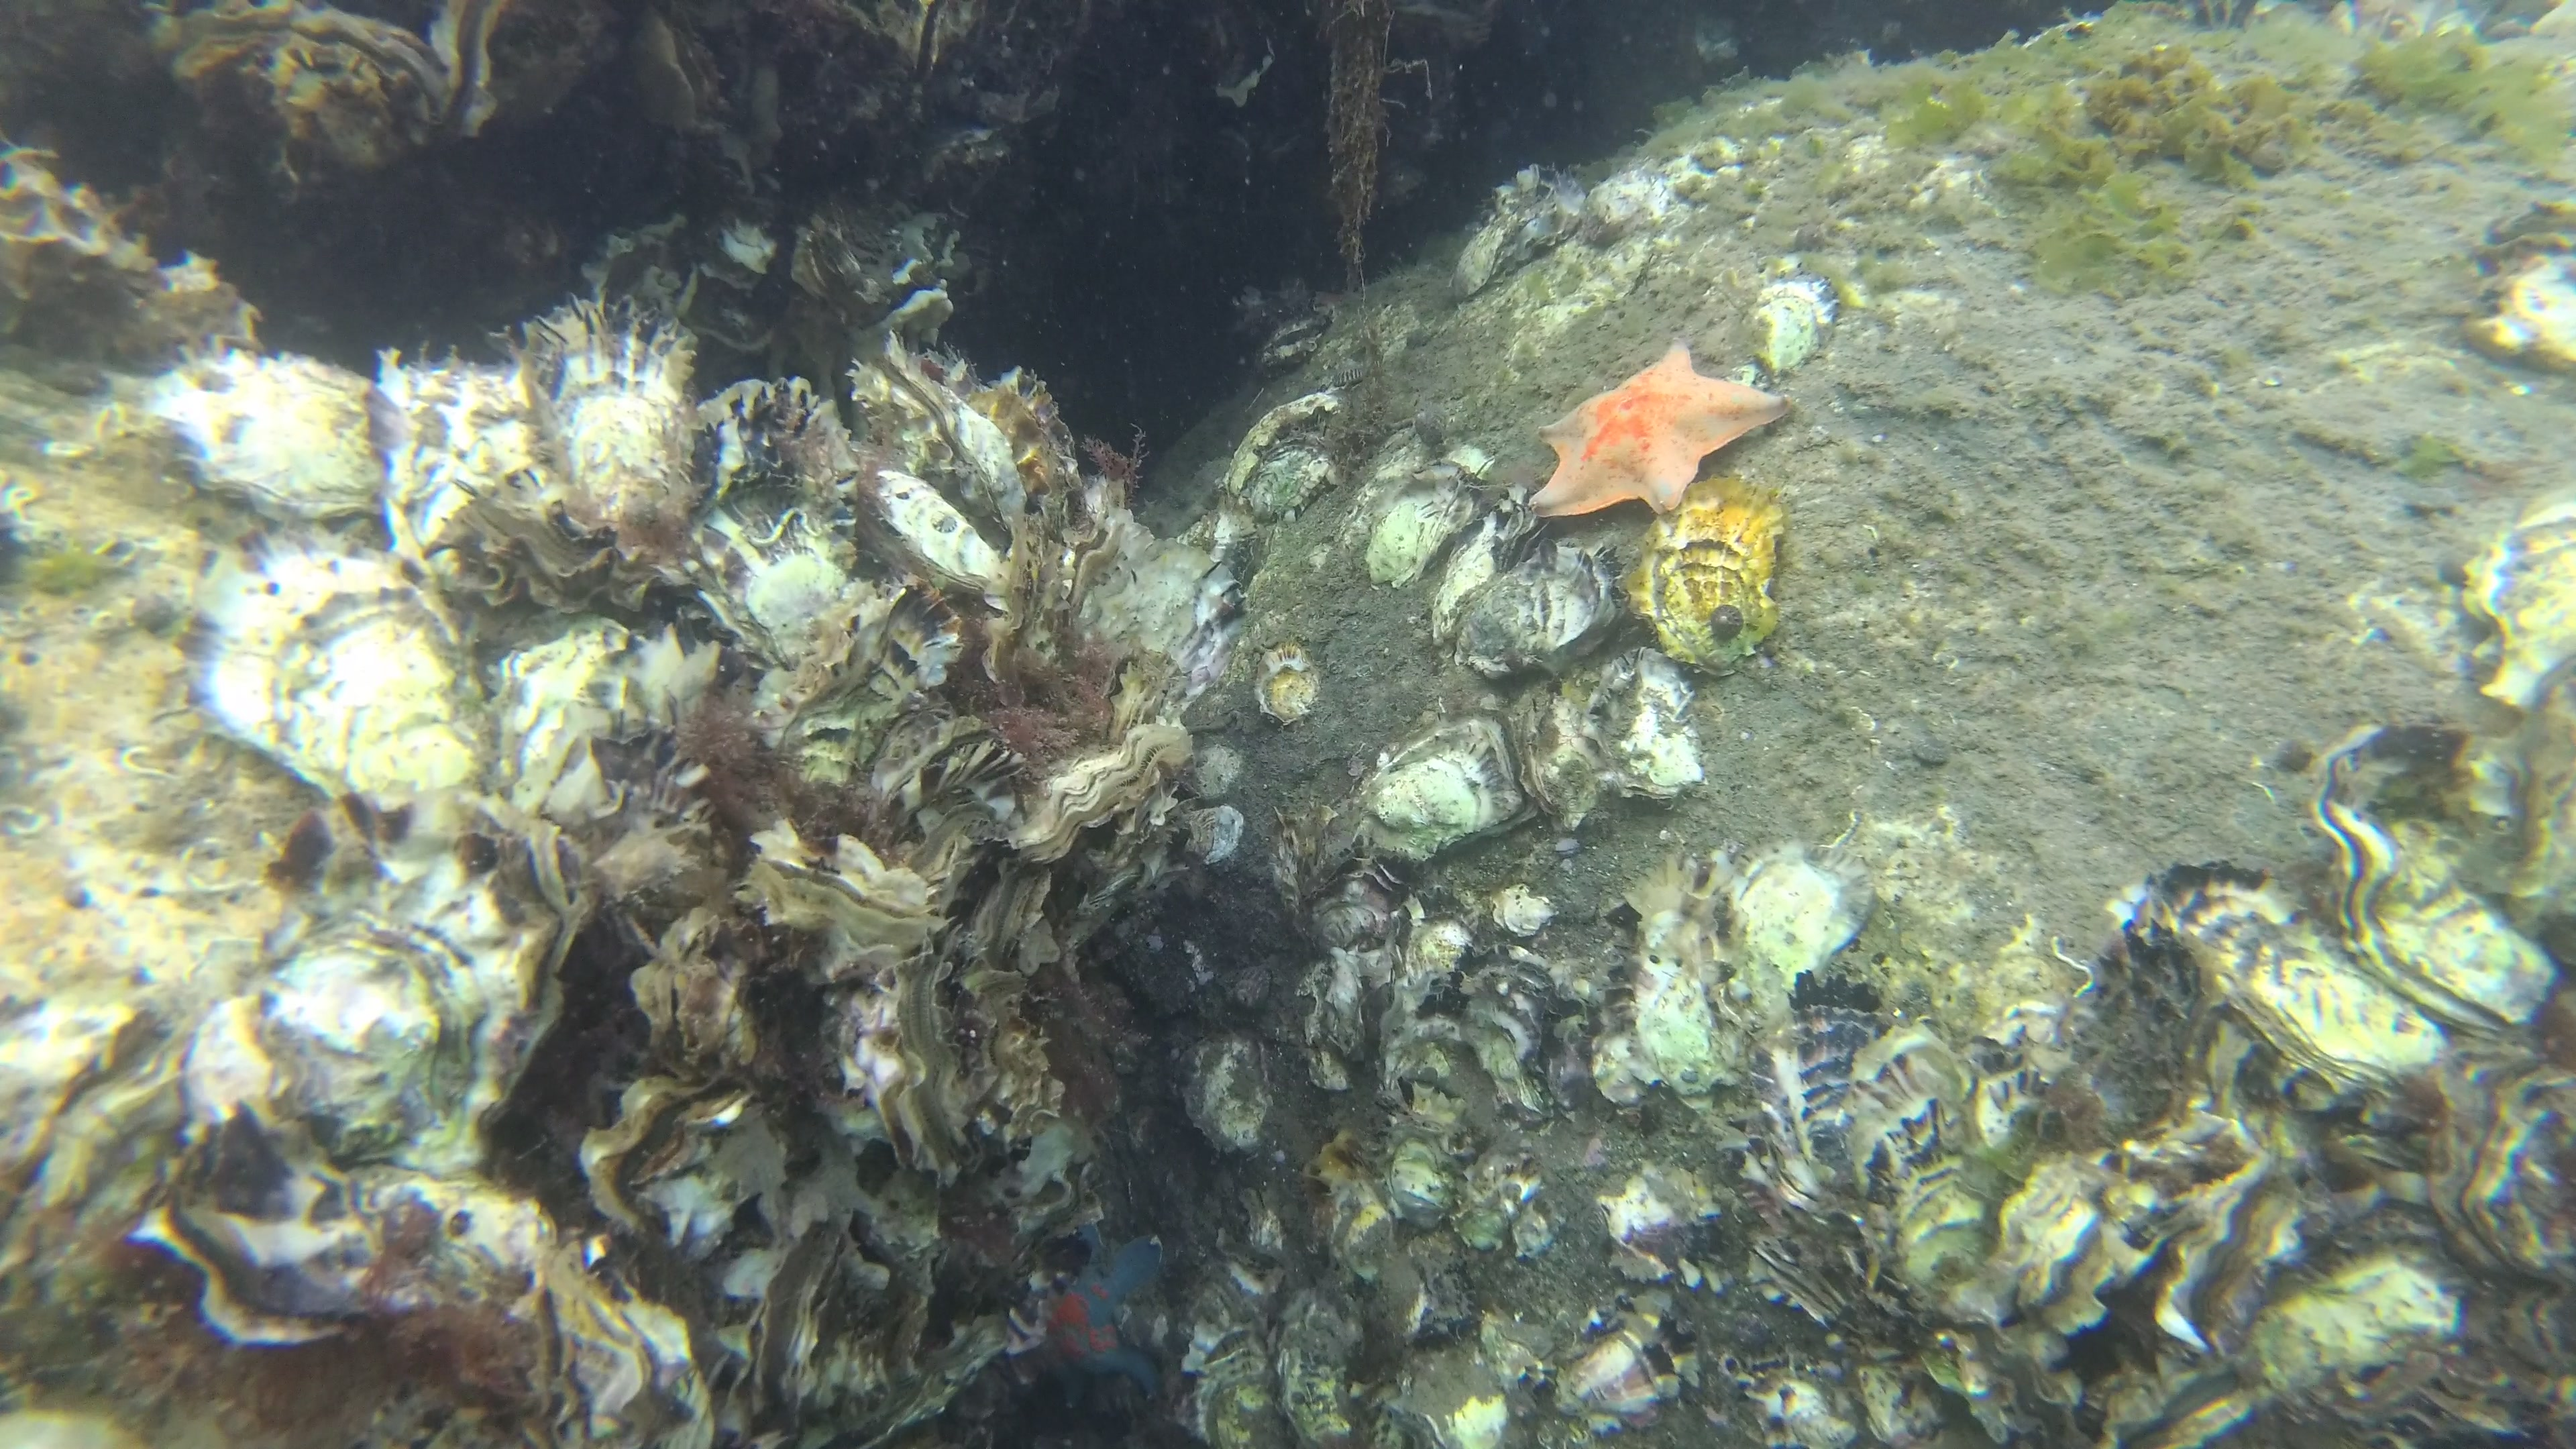starfish: (1511, 329, 1796, 525), (993, 1203, 1171, 1412)
